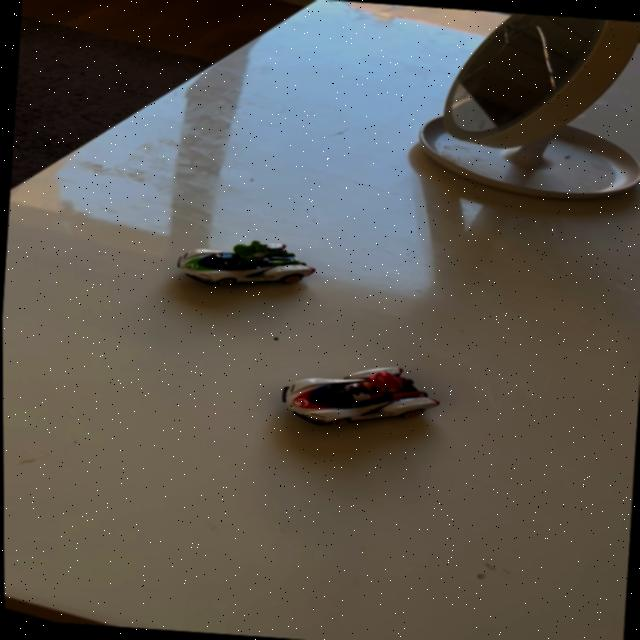mario: (268, 354, 454, 437)
yoshi: (165, 229, 324, 300)
